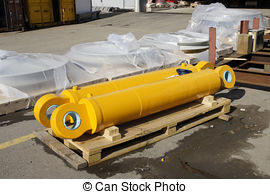pallet: (71, 121, 246, 138)
